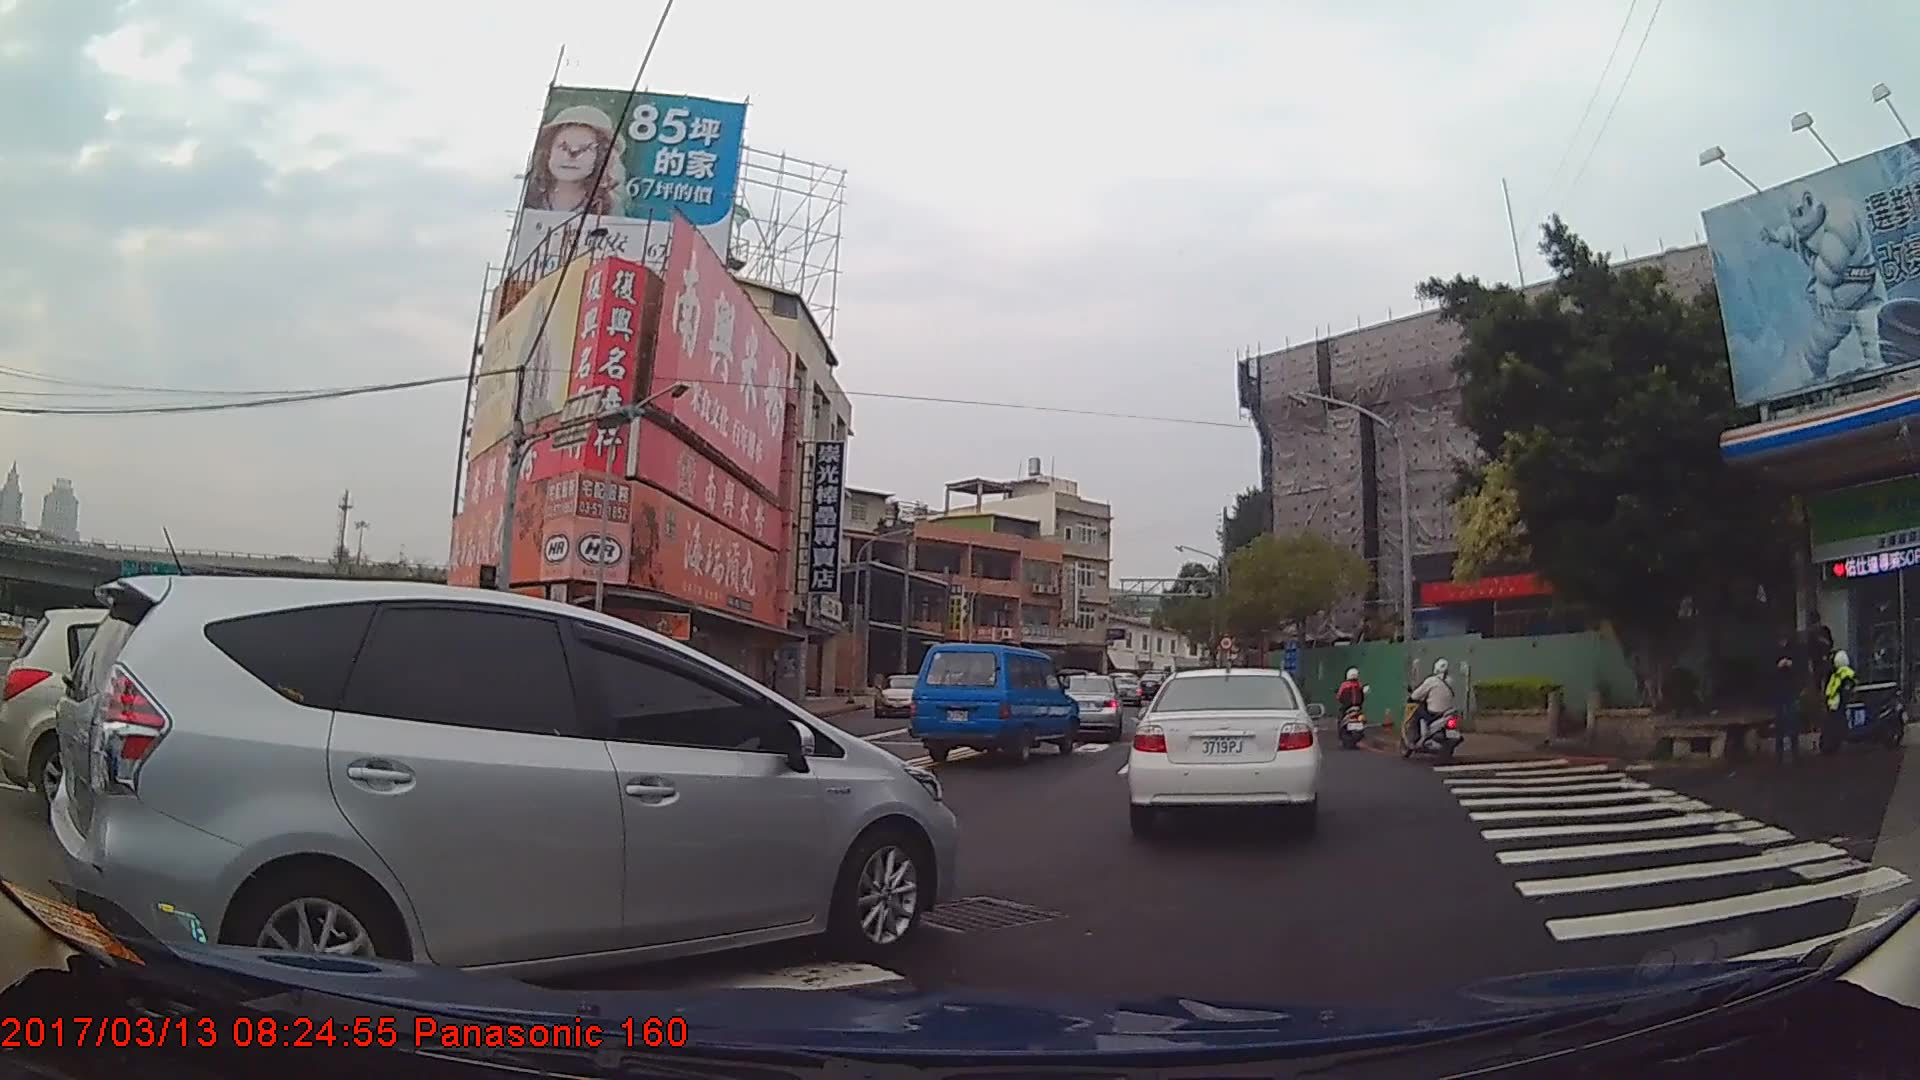pedestrian: (1765, 634, 1810, 758), (1796, 610, 1833, 719)
rider: (1398, 658, 1462, 756), (1336, 666, 1370, 746)
vehicle: (47, 572, 965, 1006), (1125, 668, 1319, 838), (905, 642, 1078, 763), (1050, 672, 1123, 740), (873, 673, 933, 722)
